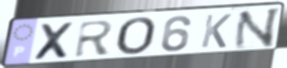6: (159, 14, 193, 54)
K: (199, 12, 234, 49)
N: (231, 6, 283, 52)
O: (114, 16, 159, 57)
R: (73, 19, 117, 60)
X: (31, 21, 78, 62)
